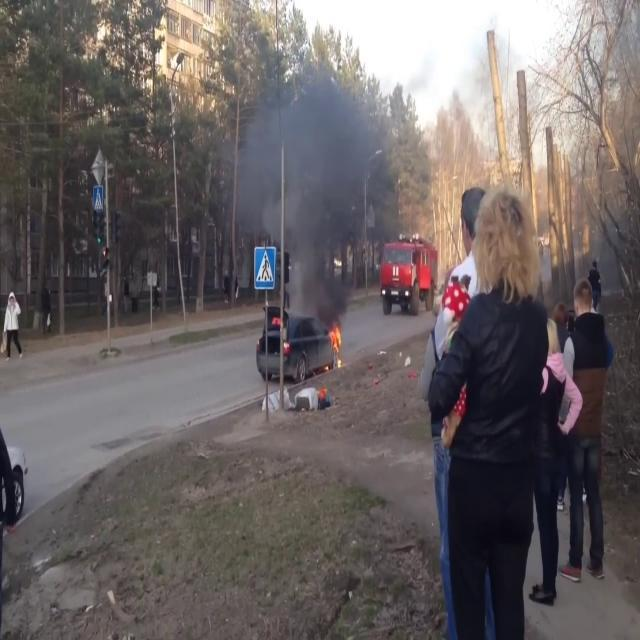Fire: (328, 318, 344, 366)
Smoke: (228, 51, 370, 292)
